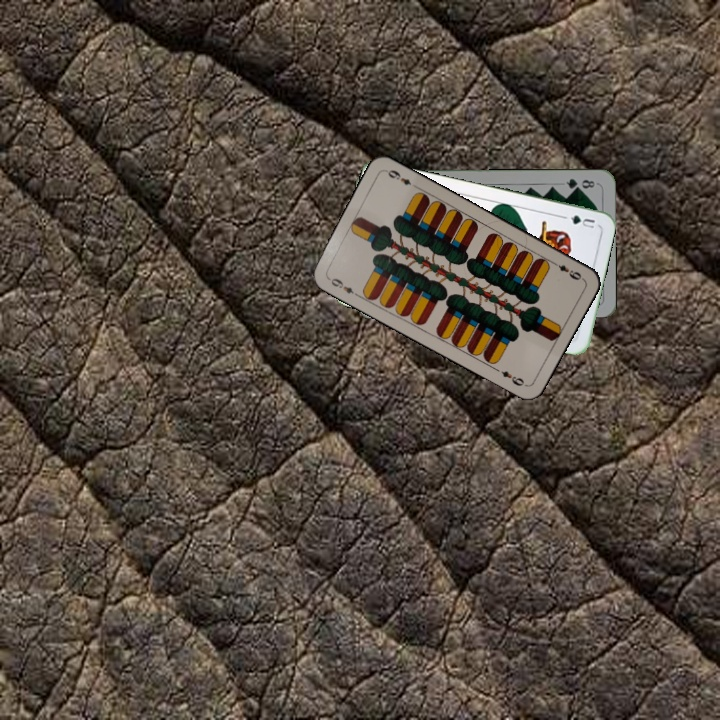E9: (548, 257, 585, 283), (324, 274, 361, 299)
G8: (562, 174, 597, 192)
GU: (566, 211, 597, 231)
